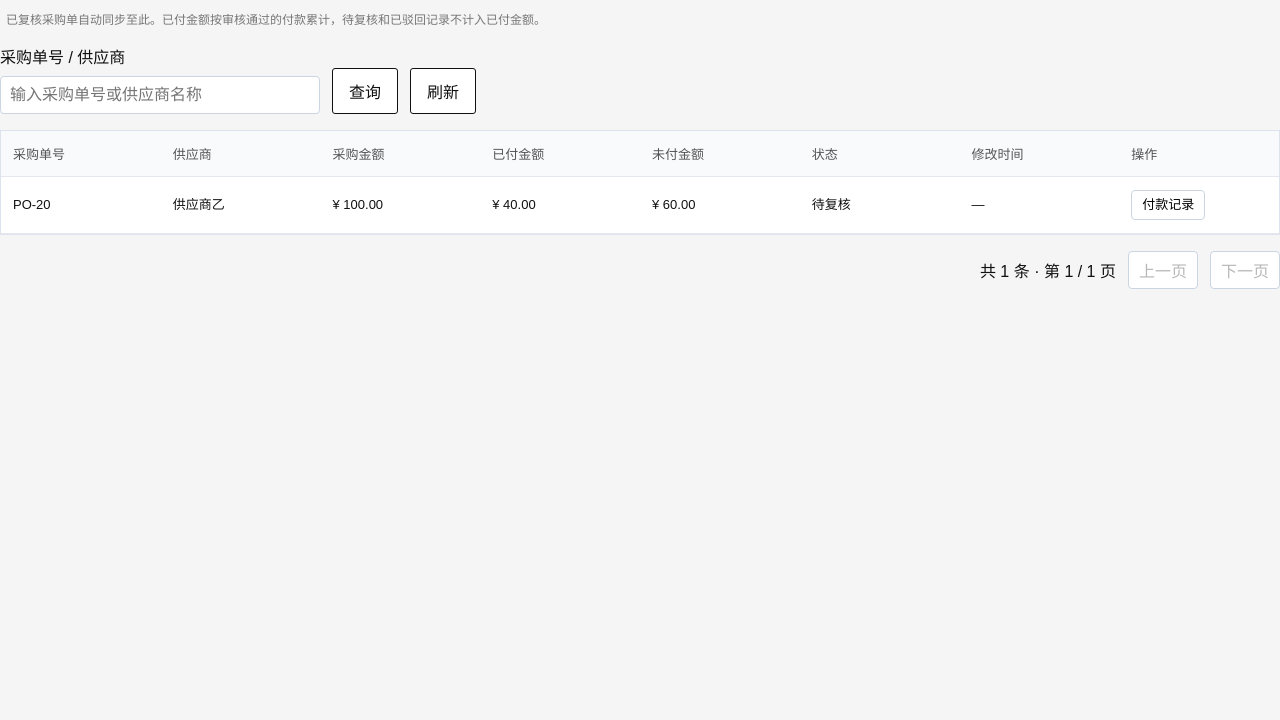
Test: allows ordinary users to view records without finance controls
The image size is (1280, 720).
Click the button with test id "fund-purchase-history": (1168, 205) [1131,190,1205,220]
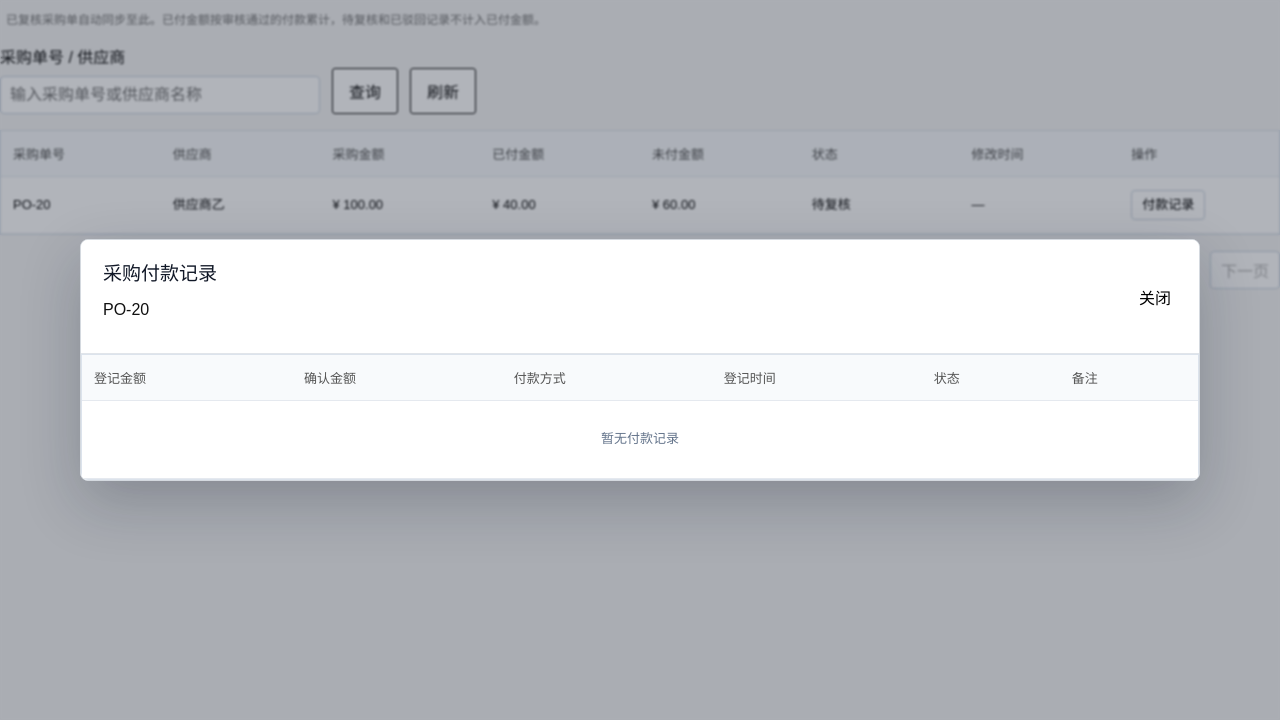
Check: the dialog shows "暂无付款记录", box [601,431,679,446]
